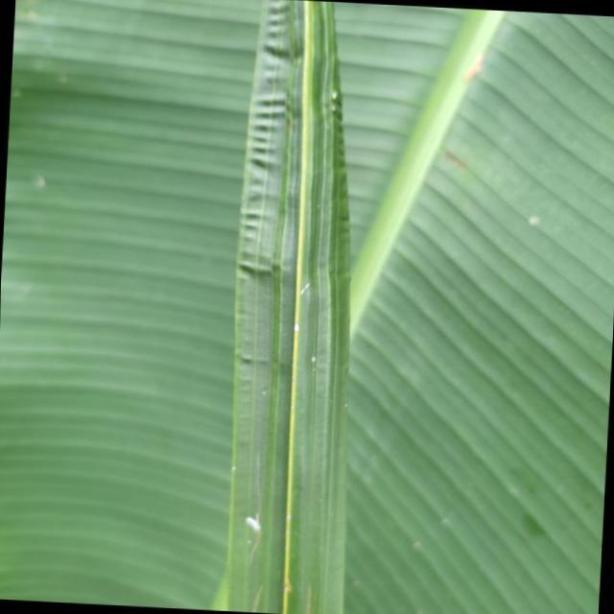Boron: (221, 0, 347, 614)
